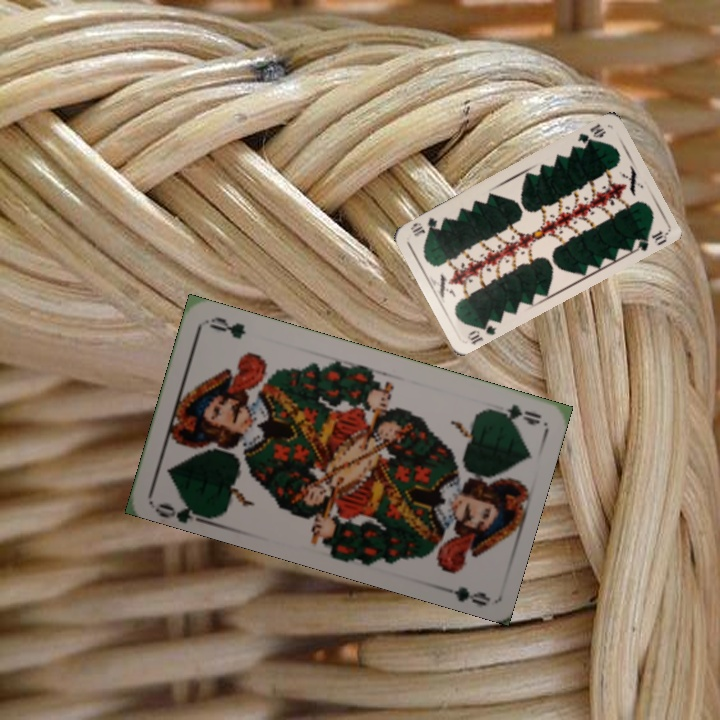G10: (463, 315, 500, 347), (573, 120, 608, 149)
GO: (151, 492, 211, 527), (483, 400, 543, 428)
